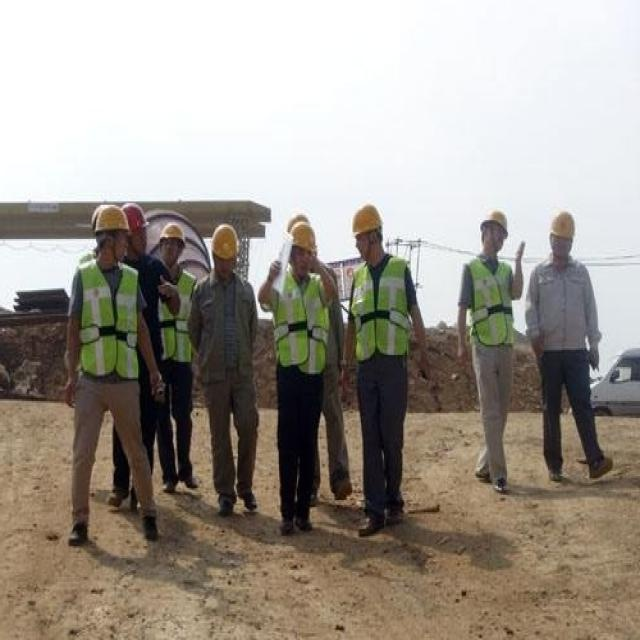Con_Casco: (210, 223, 238, 281), (546, 212, 578, 256)
Con_Chaleco: (71, 263, 141, 373), (270, 268, 332, 376), (352, 254, 412, 360), (461, 260, 514, 339)
